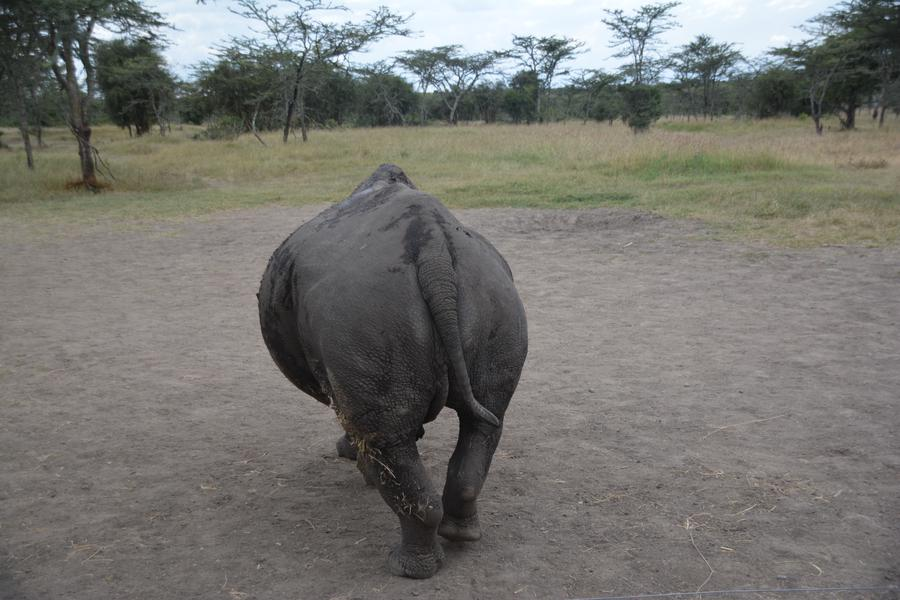rhino: (275, 156, 527, 506)
